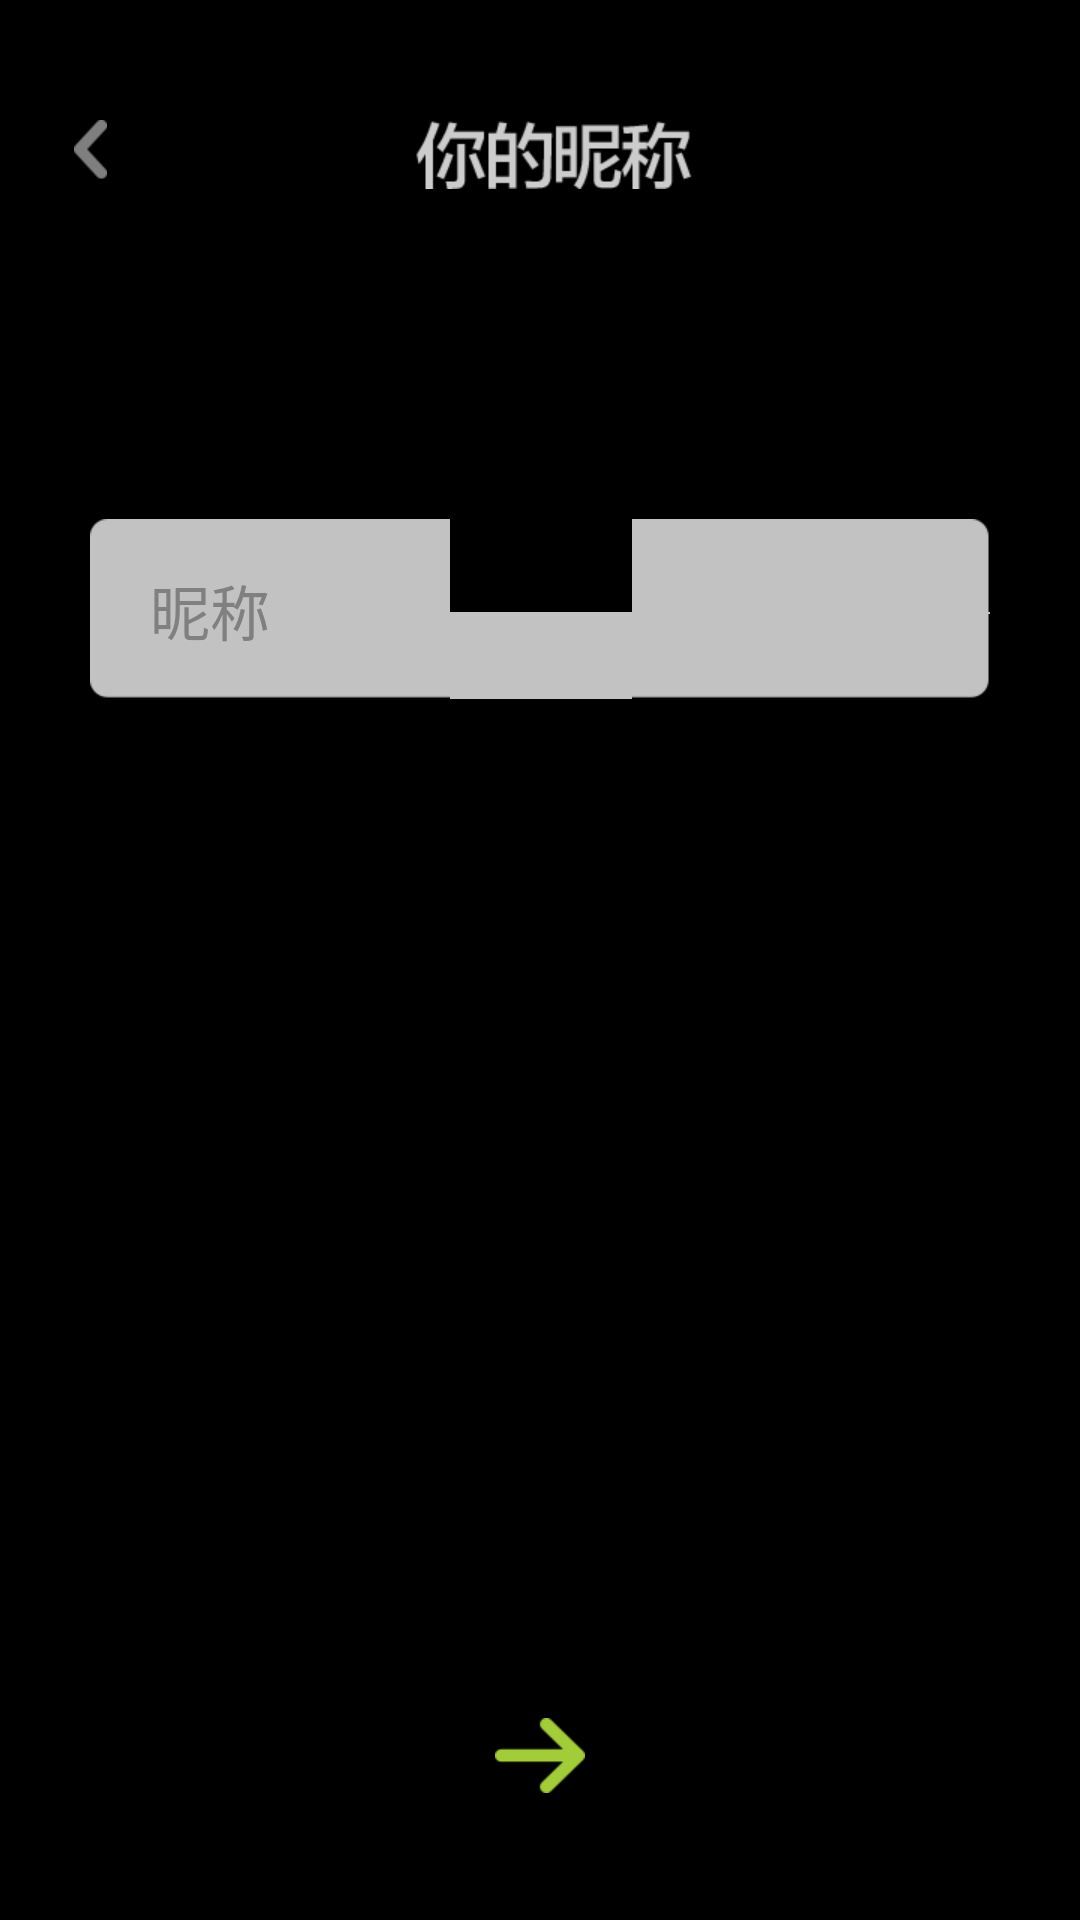

Icon click points for this 1080px x 1920px phone screenshot, format (x,y):
back: (90,149)
regist arrow: (540,1755)
